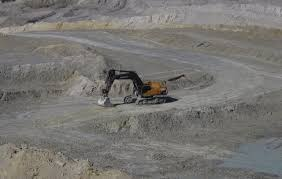excavator: (96, 69, 171, 108)
